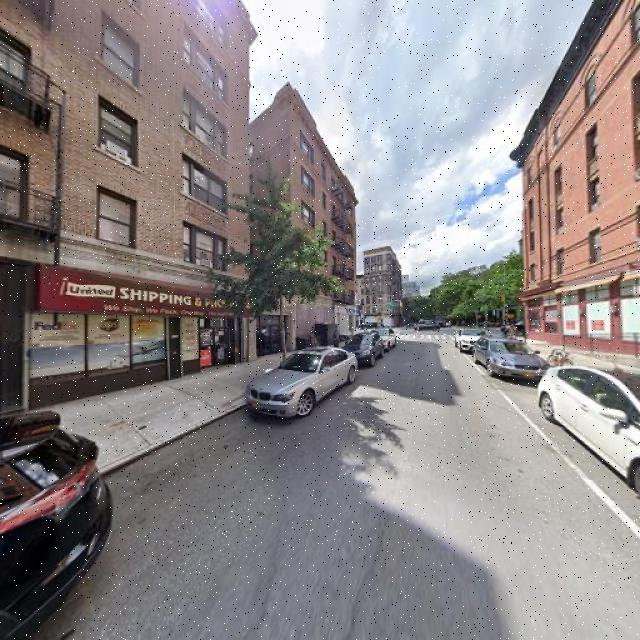Building: (1, 1, 357, 422), (525, 1, 640, 363)
